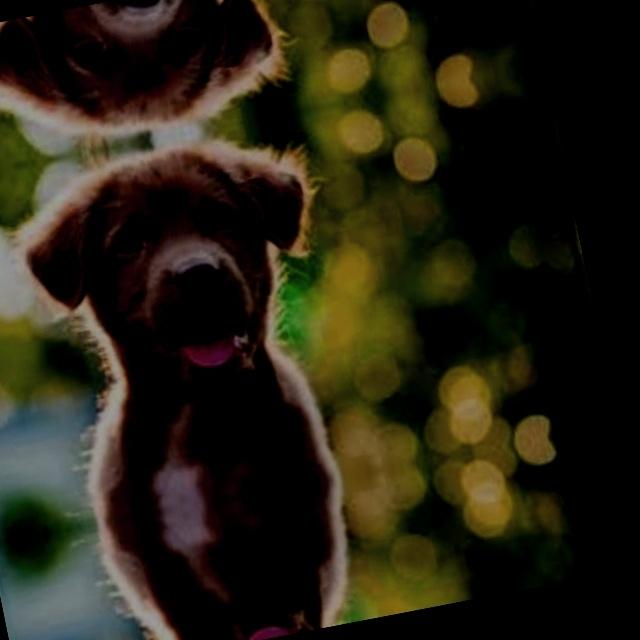dog: (2, 112, 365, 478), (0, 0, 303, 166), (85, 521, 405, 640)
